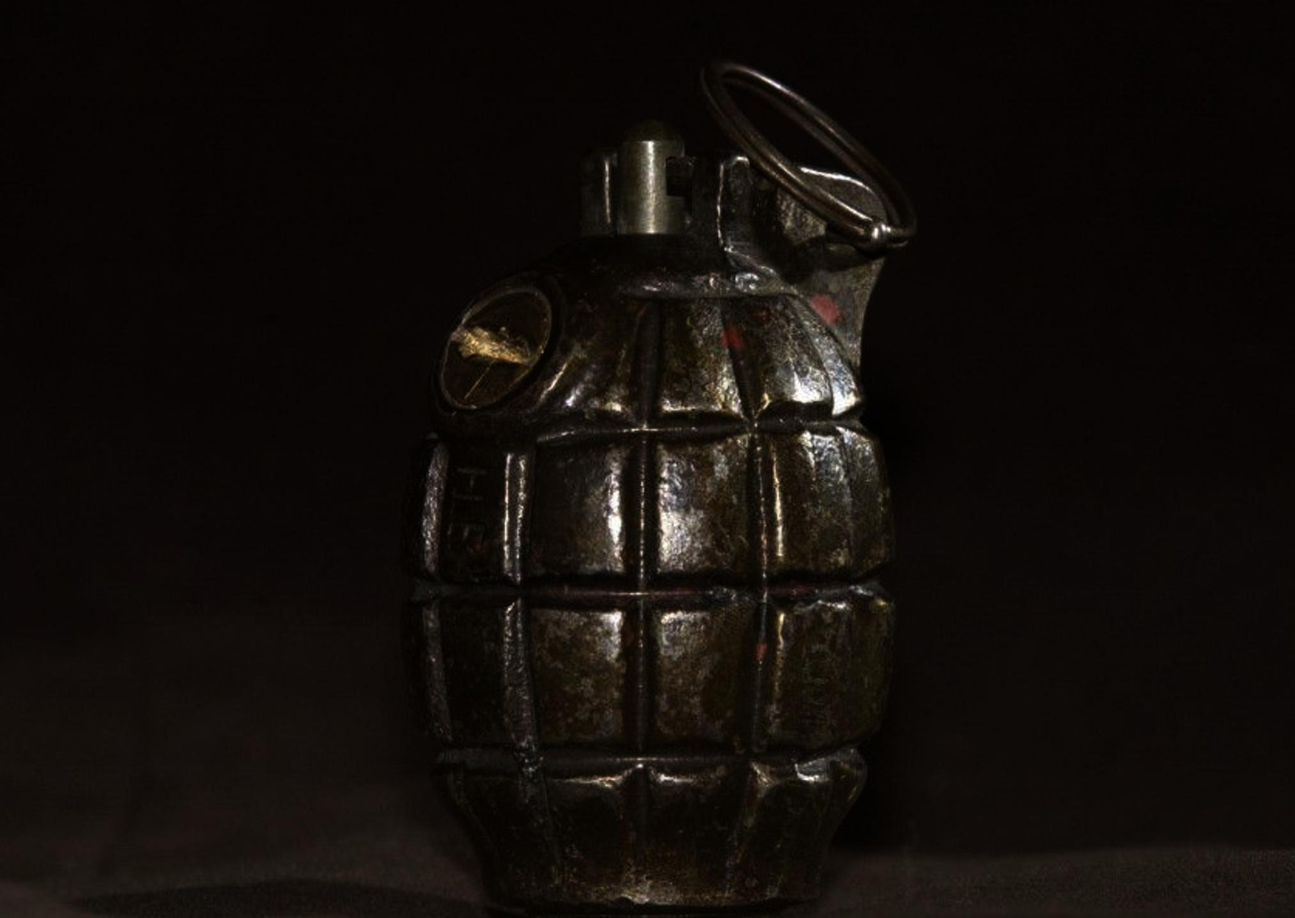Grenade: (405, 60, 913, 917)
